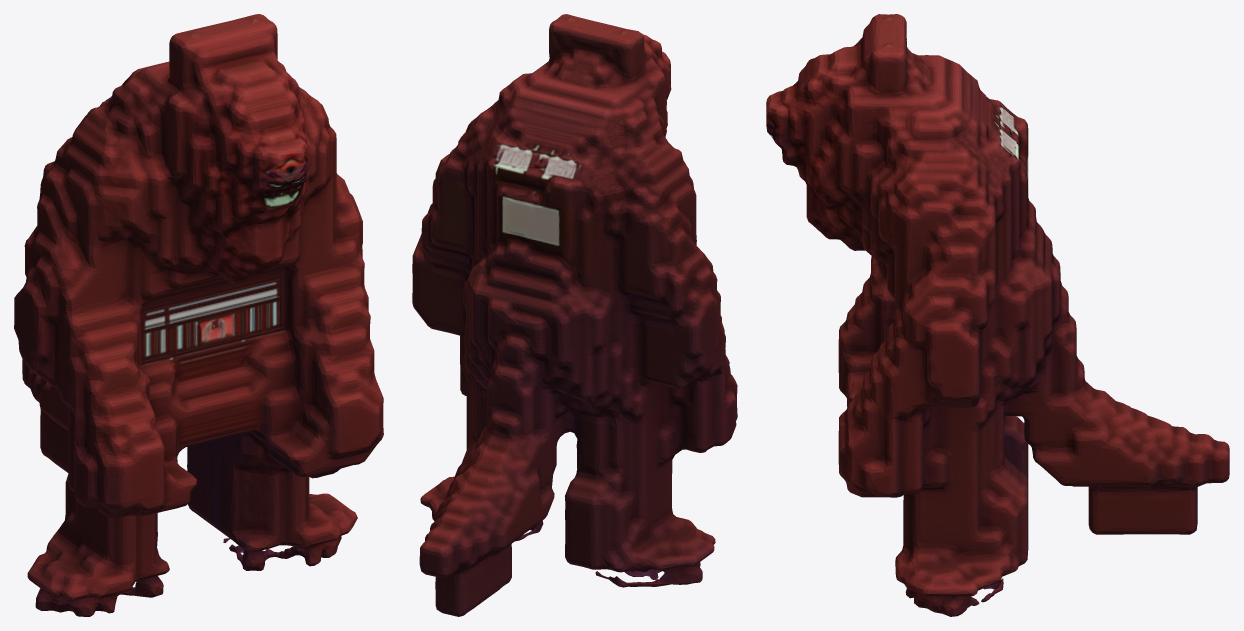
Rendered from red_wolf_trellis_test.glb.
3 views of the same model, side by side, from view 1: azimuth 30°, elevation 25°; view 2: azimuth 150°, elevation 25°; view 3: azimuth 270°, elevation 25° (orthographic). The views are drawn at different scales.
Visible parts, largest first — view 1: geometry_0; view 2: geometry_0; view 3: geometry_0.
Part boxes in pixels (x1,y1,x2,y2): geometry_0: (14, 14, 383, 616); geometry_0: (412, 14, 737, 616); geometry_0: (766, 14, 1229, 616).
Size of the model in its own units: 0.5929 by 1 by 0.802.
1 material, 1 textured.
